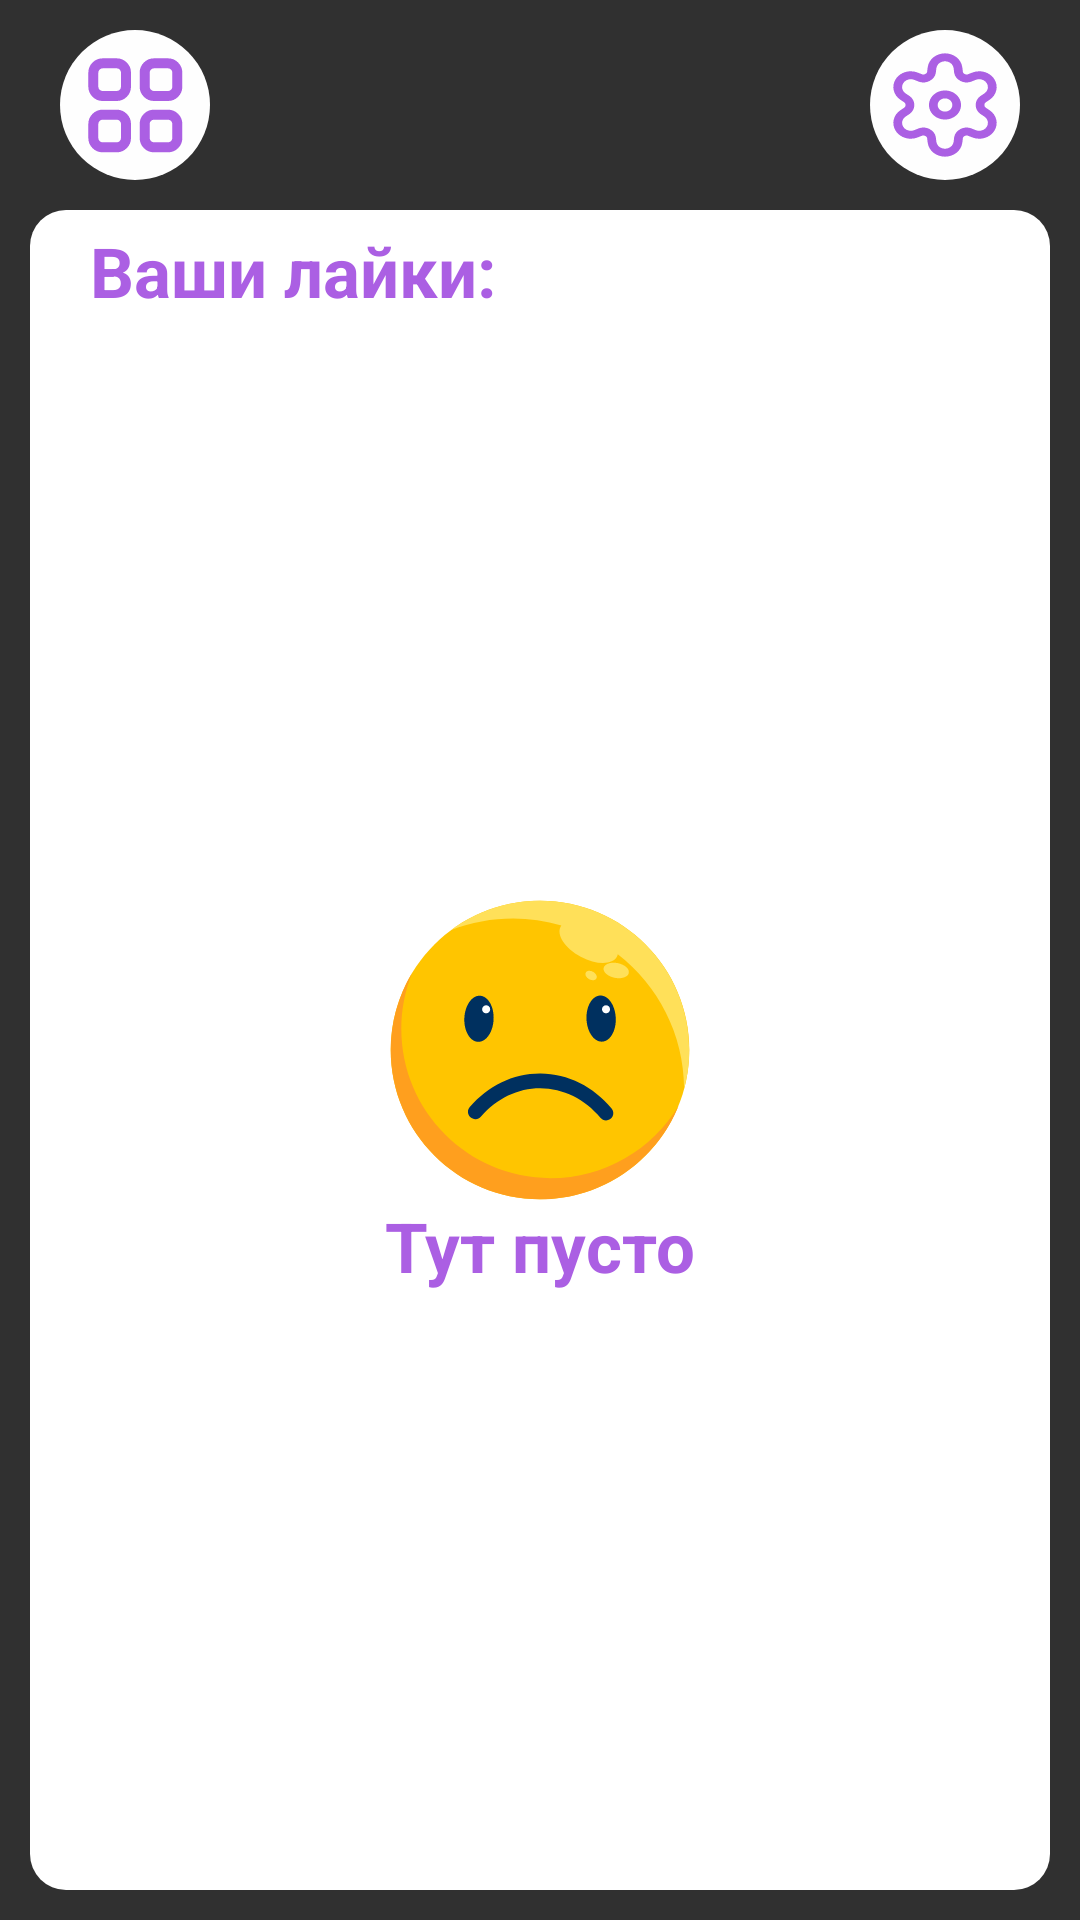

Screen size 1080w x 1920h. Icon name, then its box in pixels as rect(x1, y1, x2, y2):
navigation but menu: rect(60, 30, 210, 180)
navigation but settings: rect(870, 30, 1020, 180)
sad emoji: rect(390, 900, 690, 1200)
